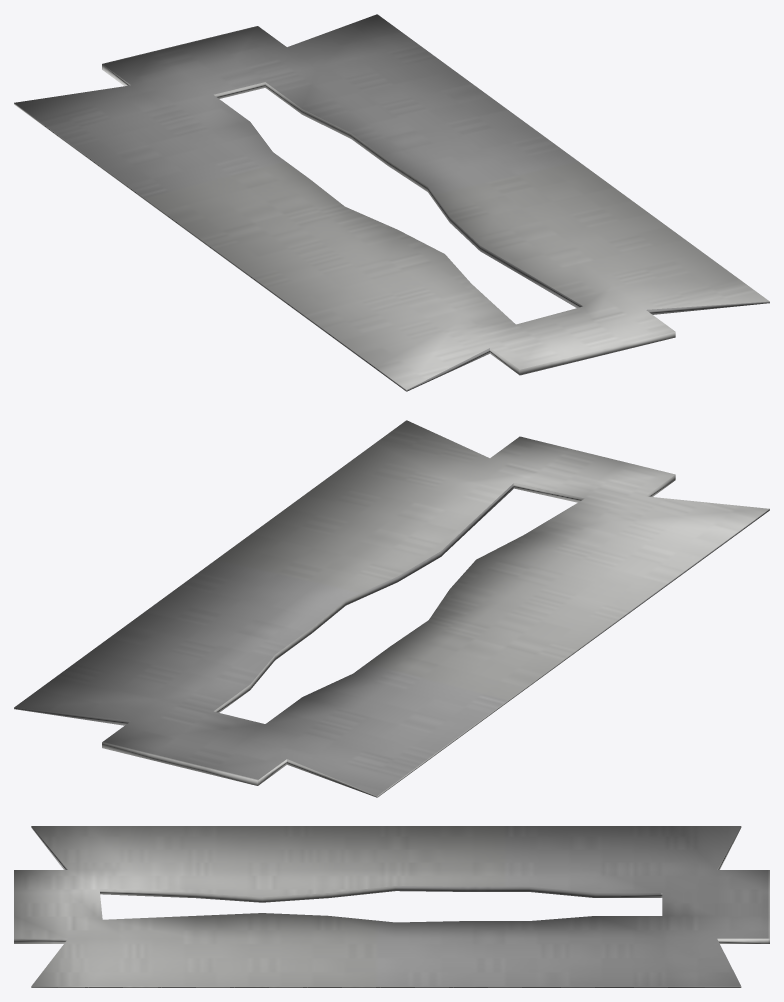
Rendered from Blade.fbx.
The picture shows the model from 3 angles, top to bottom: view 1: azimuth 30°, elevation 25°; view 2: azimuth 150°, elevation 25°; view 3: azimuth 270°, elevation 25°; orthographic projection. The views are drawn at different scales.
Visible parts, largest first — view 1: blade; view 2: blade; view 3: blade.
Part boxes in pixels (x1,y1,x2,y2): blade: (14, 14, 769, 391); blade: (14, 420, 769, 797); blade: (14, 826, 769, 987).
Bounding box in the file's own units: 0.1539 × 0.00233 × 0.3067.
